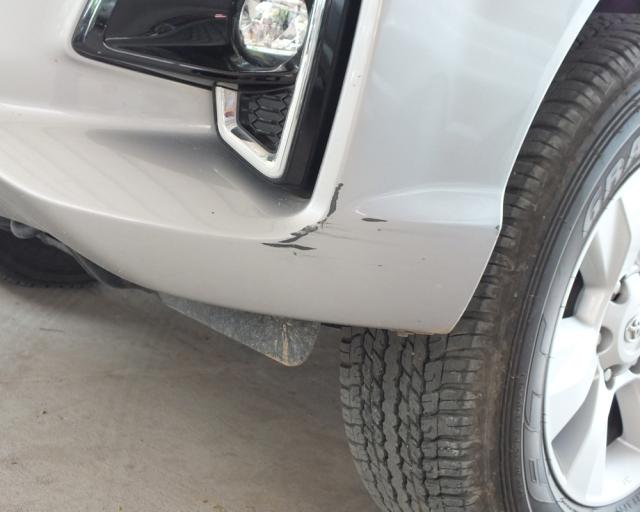scratch: (259, 183, 397, 256)
